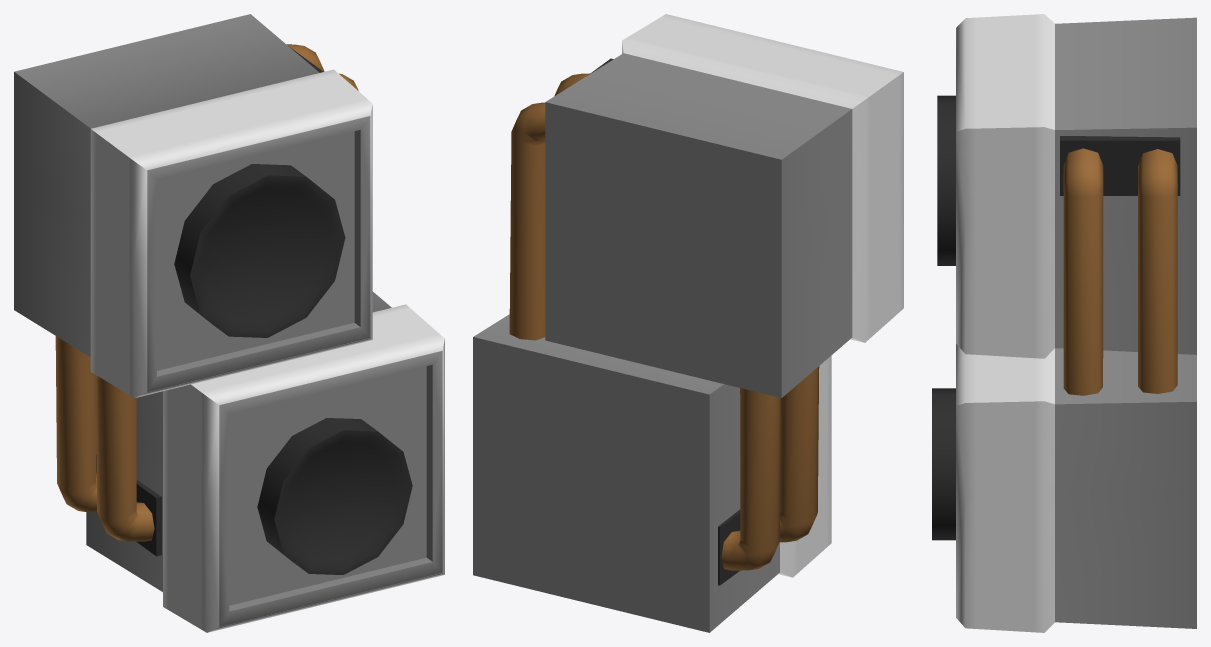
Rendered from AC_Stacked.glb.
3 views of the same model, side by side, from view 1: azimuth 30°, elevation 25°; view 2: azimuth 150°, elevation 25°; view 3: azimuth 270°, elevation 25° (orthographic). The views are drawn at different scales.
Visible parts, largest first — view 1: AC_Stacked; view 2: AC_Stacked; view 3: AC_Stacked.
Part boxes in pixels (x1=…): AC_Stacked: x1=14, y1=14, x2=444, y2=632; AC_Stacked: x1=473, y1=14, x2=903, y2=632; AC_Stacked: x1=932, y1=14, x2=1196, y2=632.
Bounding box in the file's own units: 0.6701 × 1.01 × 0.5115.
